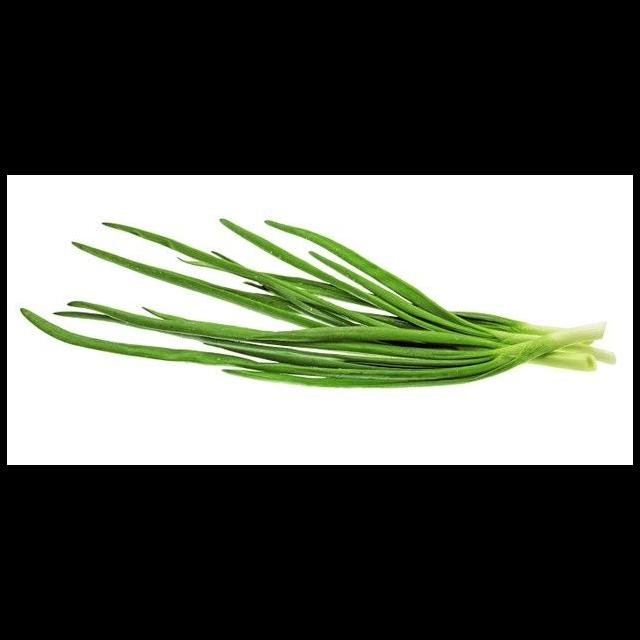green_onion: (19, 199, 624, 394)
